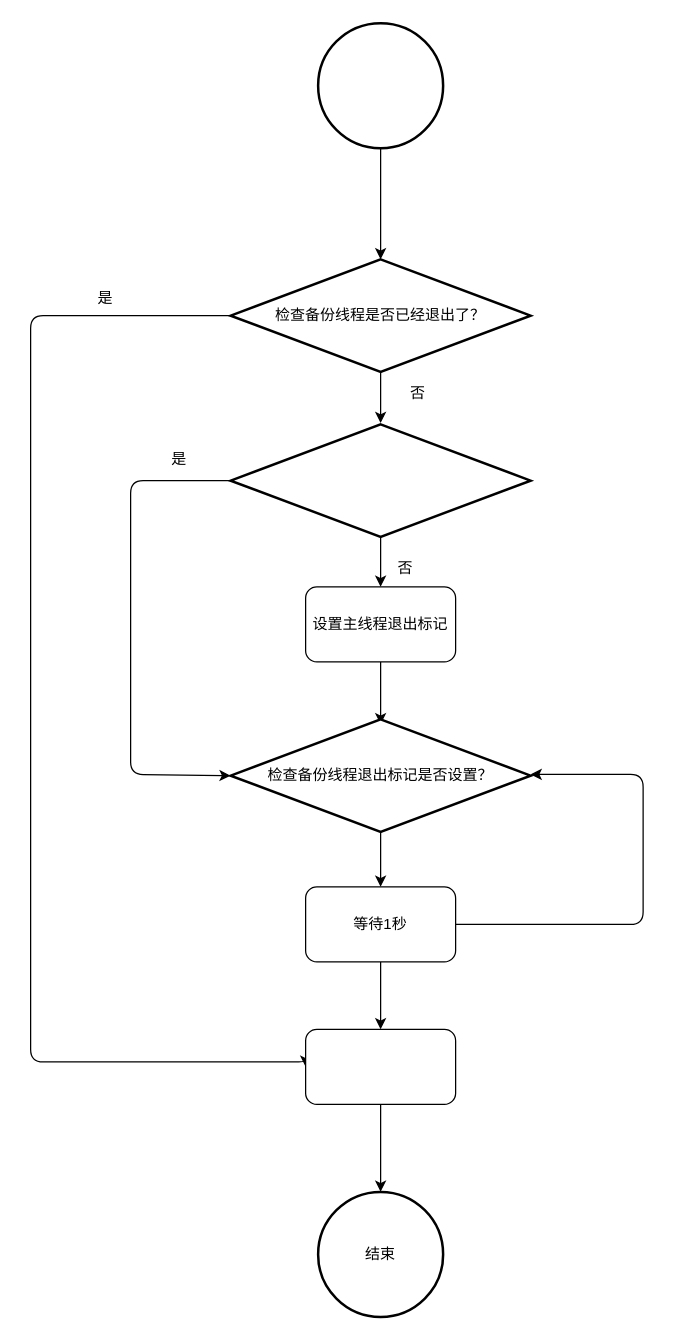
Image size: 675x1339. Some labels were removed from this diagram. The shapes that lost their labels are listed below. From the top down, each one's box as (x1, y1, x2, y2) in pixels, then its label:
(316, 21, 444, 149): 开始
(229, 422, 531, 538): 检查主线程退出标记是否设置？
(304, 1028, 456, 1104): 注销备份任务
